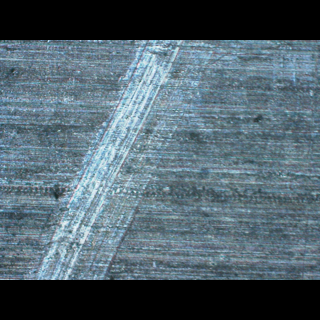d: (23, 128, 138, 280), (100, 40, 215, 154)
